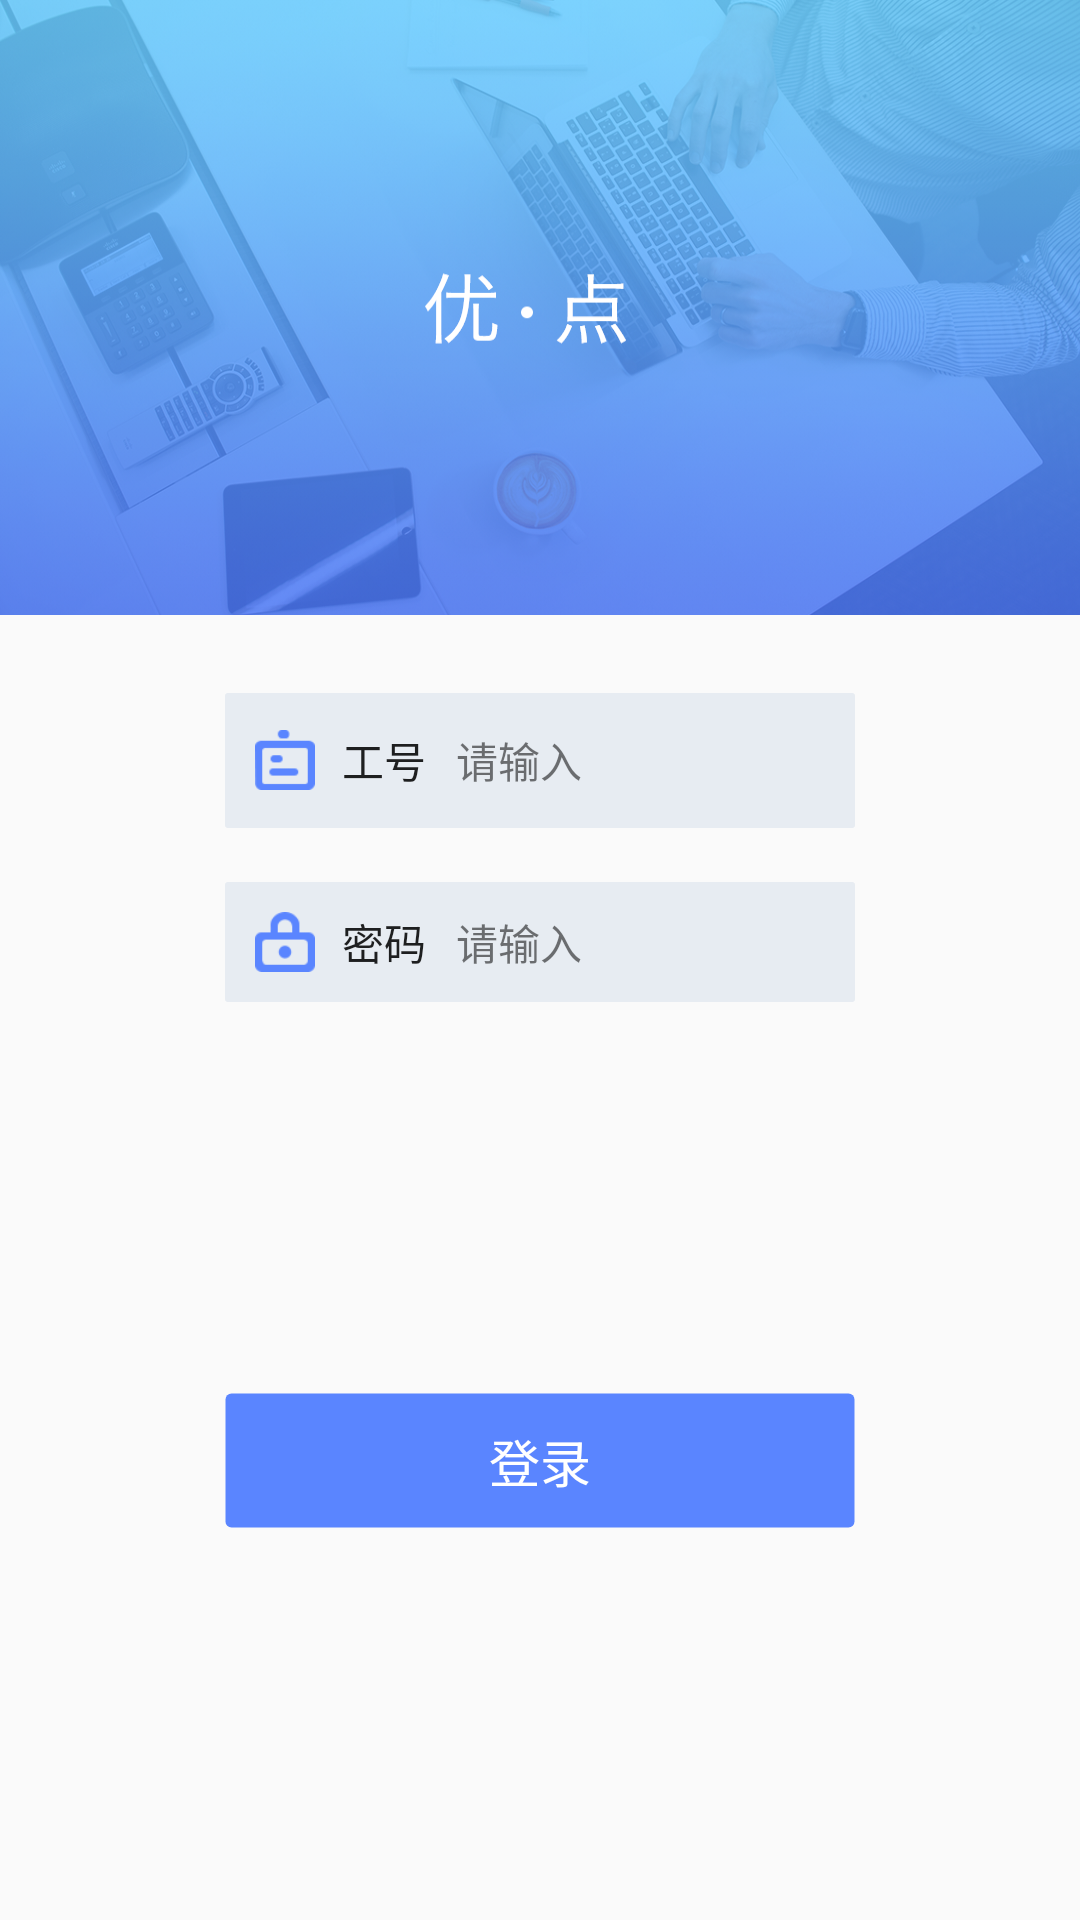

Locate icon controls on the screen. Image size 1080x1920, boxes as (x1, y1, x2, y2).
login user: (255, 730, 315, 790)
